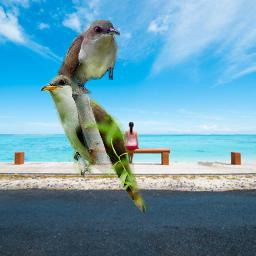Cuckoo: (37, 75, 152, 213), (56, 20, 120, 94)
